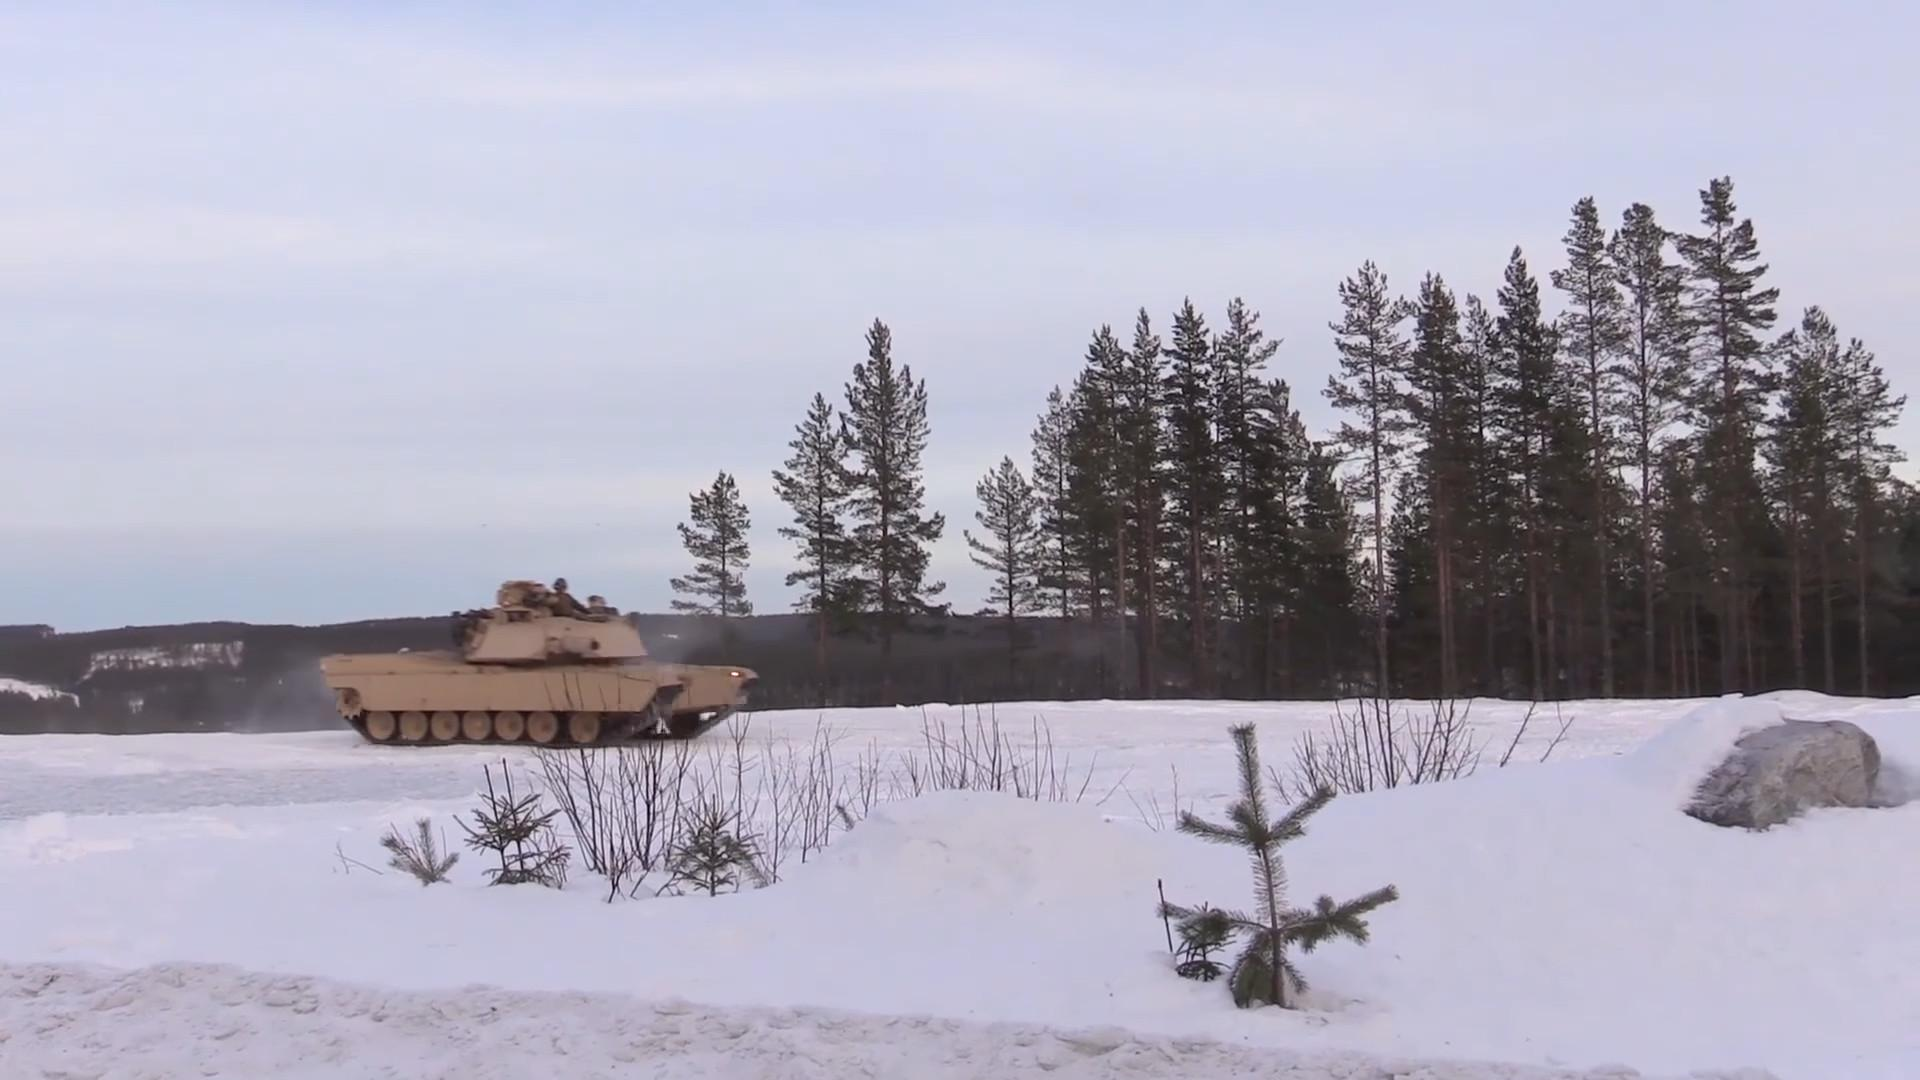tank: (322, 578, 761, 748)
